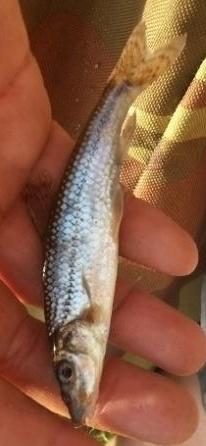Gobio gobio: (20, 20, 186, 426)
